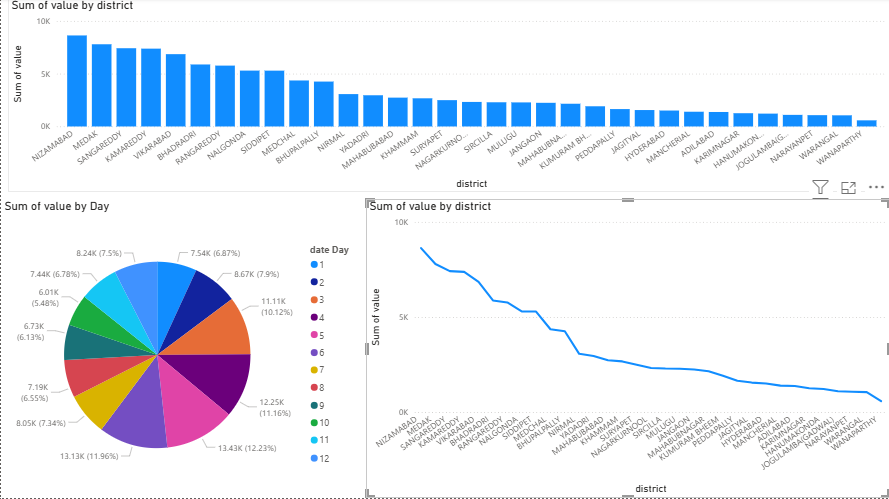

What the dashboard file says about the page in this screenshot:
{"tool":"powerbi","page":{"name":"Page 3","canvas":[1280,720],"ordinal":2},"visuals":[{"type":"columnChart","fields":{"Y":["Sum(bi project.value)"],"Category":["bi project.district"]},"box":[10,0,1270,280],"z":0},{"type":"pieChart","fields":{"Y":["Sum(bi project.value)"],"Category":["bi project.date.Variation.Date Hierarchy.Day"]},"box":[0,290,525,430],"z":1000}]}

Visuals, with their boxes in screenshot pixels (x1, y1, x2, y2), scaled from the page's 1280x720 canvas onto the 889x499 screenshot:
columnChart - Sum(bi project.value) x bi project.district: BBox(7, 0, 888, 194)
pieChart - Sum(bi project.value) x bi project.date.Variation.Date Hierarchy.Day: BBox(0, 201, 365, 498)
